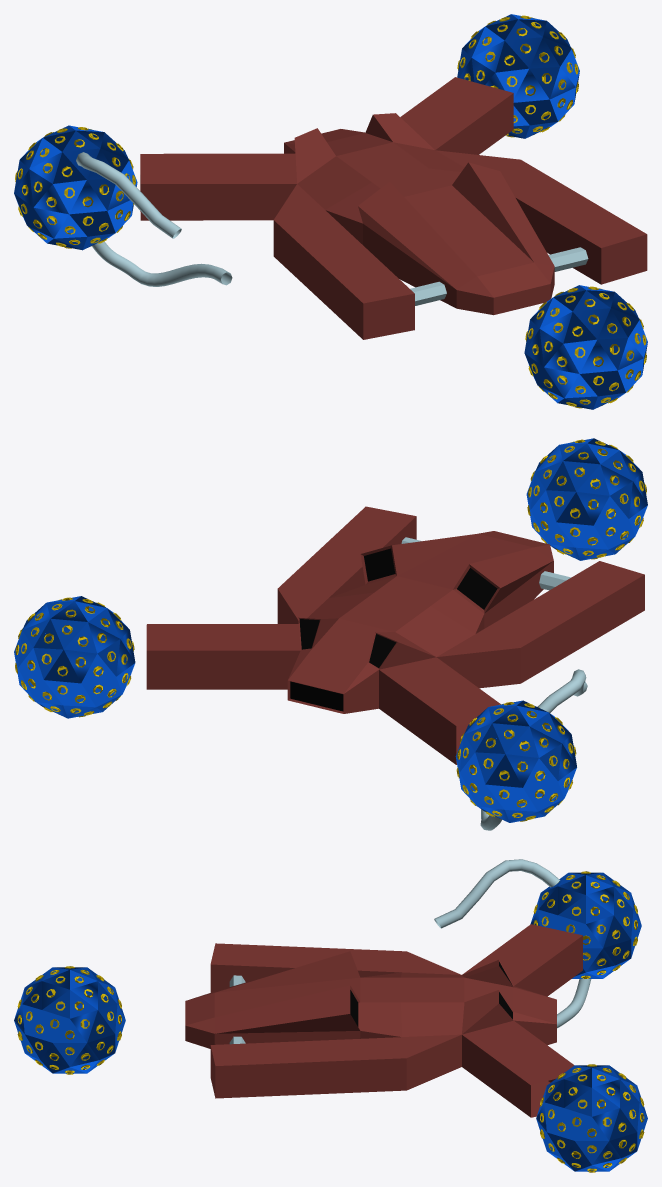
File: spaceship1.fbx
3 renders of one model, top to bottom at view 1: azimuth 30°, elevation 25°; view 2: azimuth 150°, elevation 25°; view 3: azimuth 270°, elevation 25°, orthographic. The views are drawn at different scales.
Visible parts, largest first — view 1: Cube, Icosphere_002, Icosphere, Icosphere_001, BezierCurve_001, BezierCurve, Cylinder_001; view 2: Cube, Icosphere_002, Icosphere_001, Icosphere, BezierCurve; view 3: Cube, Icosphere_001, Icosphere_002, Icosphere, BezierCurve, BezierCurve_001.
Part boxes in pixels (<box>): Cube: <box>140,77,647,339</box>; Icosphere_002: <box>524,285,647,409</box>; Icosphere: <box>14,125,137,250</box>; Icosphere_001: <box>457,14,579,138</box>; BezierCurve_001: <box>92,241,232,286</box>; BezierCurve: <box>76,152,181,238</box>; Cylinder_001: <box>410,247,588,305</box>; Cube: <box>146,506,644,764</box>; Icosphere_002: <box>526,438,647,560</box>; Icosphere_001: <box>14,596,135,718</box>; Icosphere: <box>455,700,576,822</box>; BezierCurve: <box>537,669,587,712</box>; Cube: <box>185,924,582,1117</box>; Icosphere_001: <box>536,1064,647,1172</box>; Icosphere_002: <box>14,966,125,1074</box>; Icosphere: <box>530,871,641,978</box>; BezierCurve: <box>434,859,560,928</box>; BezierCurve_001: <box>557,979,591,1028</box>.
Bounding box in the file's own units: 24.59 × 6.72 × 27.62.
